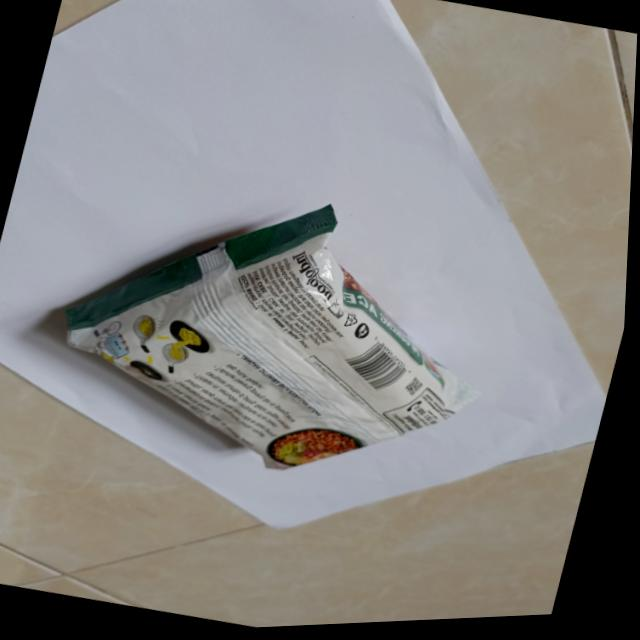gery-salut-coconut: (37, 151, 511, 515)
